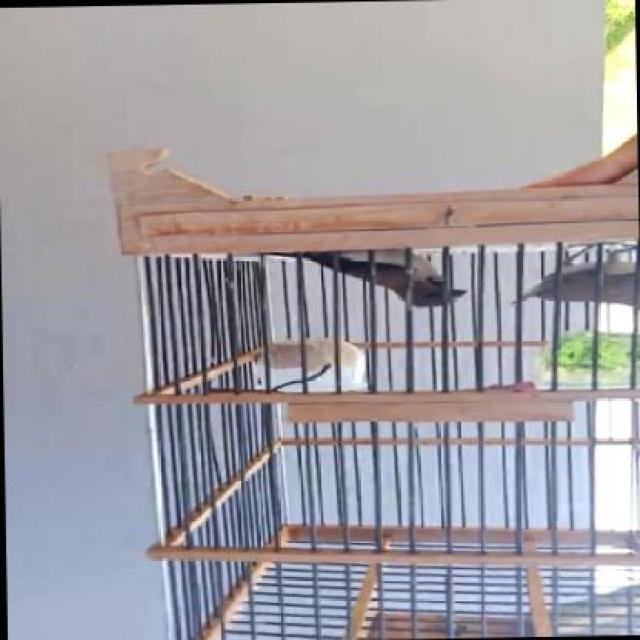Bird: (290, 235, 459, 326), (496, 252, 636, 332)
